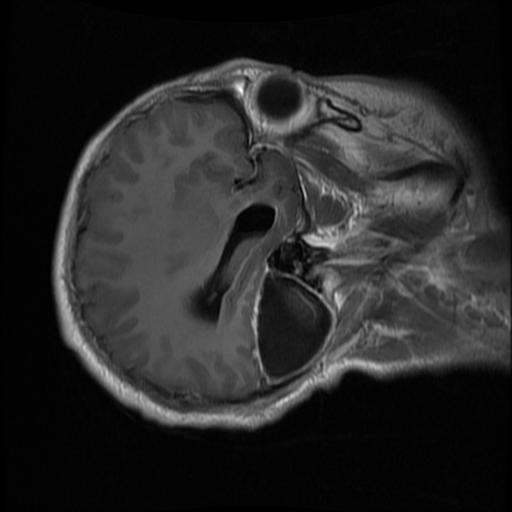glioma: (259, 271, 331, 376)
